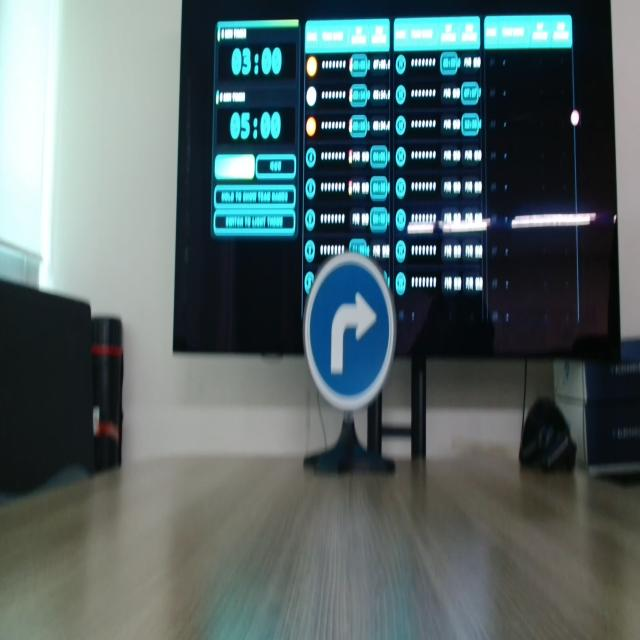right_dierection: (303, 255, 398, 412)
